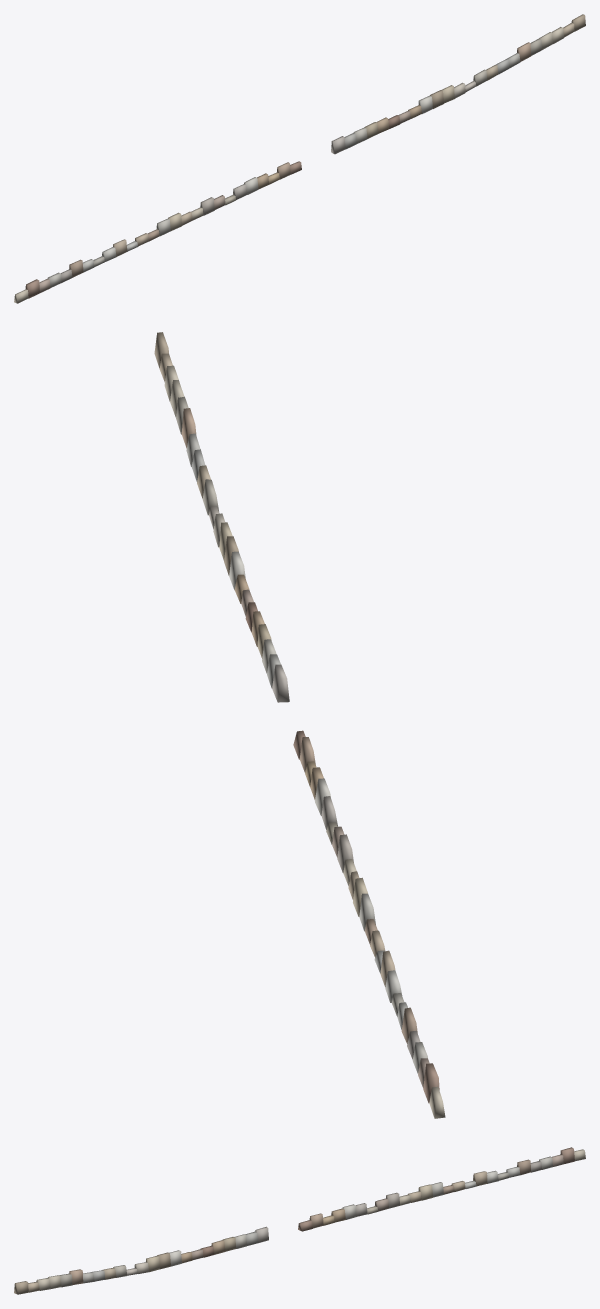
File: farm_1_-2_far.glb
3 renders of one model, top to bottom at view 1: azimuth 90°, elevation 25°; view 2: azimuth 150°, elevation 25°; view 3: azimuth 270°, elevation 25°, orthographic. The views are drawn at different scales.
Parts seen in each view (by area): view 1: geometry_0; view 2: geometry_0; view 3: geometry_0.
Part boxes in pixels (x1,y1,x2,y2): geometry_0: [14, 14, 585, 303]; geometry_0: [154, 332, 445, 1118]; geometry_0: [14, 1147, 585, 1294].
Bounding box in the file's own units: 54.09 × 9.86 × 62.64.
